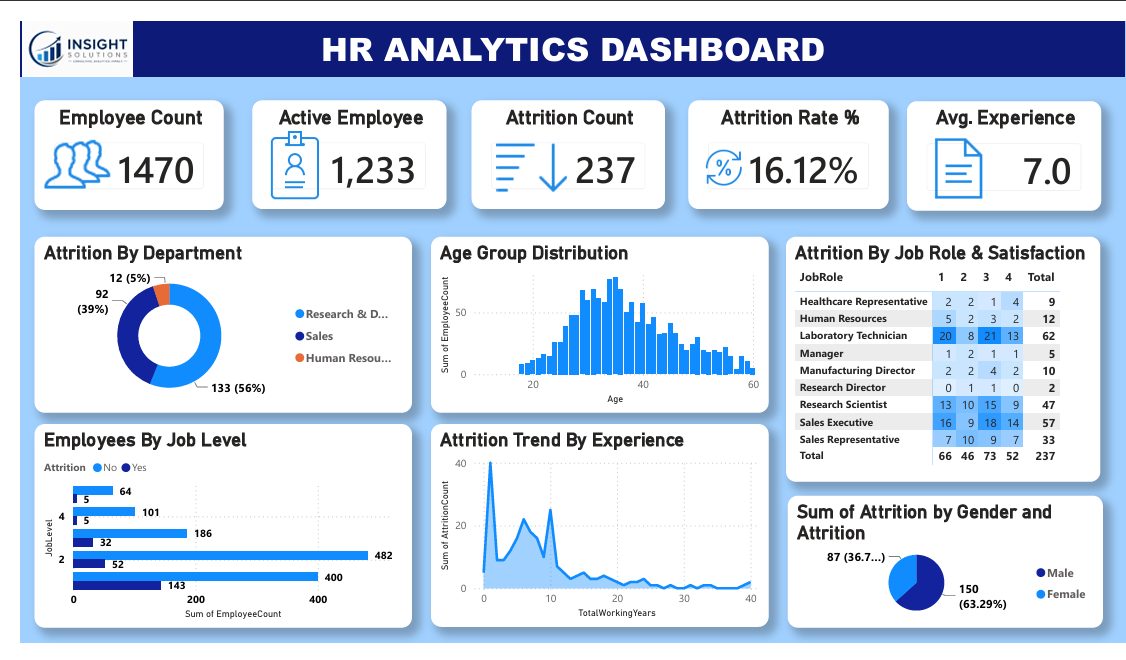

This screenshot's page, from the dashboard's own definition file:
{"tool":"powerbi","page":{"name":"Page 1","canvas":[1280,720],"ordinal":0},"visuals":[{"type":"textbox","box":[0,0,1279.4,64.3],"z":1},{"type":"image","box":[0,0,131,64.4],"z":2},{"type":"cardVisual","title":"Attrition Count","fields":{"Data":["Sum(WA_Fn-UseC_-HR-Employee-Attrition.AttritionCount)"]},"box":[521.6,90.7,224.9,126.6],"z":3},{"type":"cardVisual","title":"Attrition Rate %","fields":{"Data":["WA_Fn-UseC_-HR-Employee-Attrition.Attrition Rate %","WA_Fn-UseC_-HR-Employee-Attrition.Attrition Rate %"]},"box":[772.9,90.7,232.4,126.6],"z":4},{"type":"cardVisual","title":"Employee Count","fields":{"Data":["Sum(WA_Fn-UseC_-HR-Employee-Attrition.EmployeeCount)"]},"box":[15.5,91.1,219.9,126.6],"z":5},{"type":"cardVisual","title":"Avg. Experience","fields":{"Data":["Avg(WA_Fn-UseC_-HR-Employee-Attrition.YearsAtCompany)"]},"box":[1025.7,91.6,225.1,127.5],"z":6},{"type":"cardVisual","title":"Active Employee","fields":{"Data":["Sum(WA_Fn-UseC_-HR-Employee-Attrition.EmployeeCount)"]},"box":[268.3,90.7,224.9,126.6],"z":7},{"type":"image","box":[268.7,122.2,97.7,93.3],"z":9},{"type":"image","box":[24.4,115.5,82.2,95.5],"z":10},{"type":"image","box":[788.4,122.2,51.1,93.3],"z":12},{"type":"image","box":[1048.3,128.8,75.5,82.2],"z":13},{"type":"image","box":[550.8,122.2,82.2,93.3],"z":14},{"type":"donutChart","title":"Attrition By Department","fields":{"Y":["Sum(WA_Fn-UseC_-HR-Employee-Attrition.AttritionCount)"],"Category":["WA_Fn-UseC_-HR-Employee-Attrition.Department"]},"box":[15.5,248.7,437.5,204.3],"z":15},{"type":"clusteredBarChart","title":"Employees By Job Level","fields":{"Y":["Sum(WA_Fn-UseC_-HR-Employee-Attrition.EmployeeCount)"],"Category":["WA_Fn-UseC_-HR-Employee-Attrition.JobLevel"],"Series":["WA_Fn-UseC_-HR-Employee-Attrition.Attrition"]},"box":[15.5,466.4,437.5,235.4],"z":16},{"type":"pivotTable","title":"Attrition By Job Role & Satisfaction","fields":{"Rows":["WA_Fn-UseC_-HR-Employee-Attrition.JobRole"],"Values":["Sum(WA_Fn-UseC_-HR-Employee-Attrition.AttritionCount)"],"Columns":["WA_Fn-UseC_-HR-Employee-Attrition.JobSatisfaction"]},"box":[886.2,248.7,364.2,284.3],"z":17},{"type":"columnChart","title":"Age Group Distribution","fields":{"Category":["WA_Fn-UseC_-HR-Employee-Attrition.Age"],"Y":["Sum(WA_Fn-UseC_-HR-Employee-Attrition.EmployeeCount)"]},"box":[475.3,248.7,390.9,204.3],"z":18},{"type":"pieChart","title":"Sum of Attrition by Gender and Attrition","fields":{"Category":["WA_Fn-UseC_-HR-Employee-Attrition.Gender"],"Series":["WA_Fn-UseC_-HR-Employee-Attrition.AttritionCount"],"Y":["Sum(WA_Fn-UseC_-HR-Employee-Attrition.AttritionCount)"]},"box":[888.4,548.6,364.2,153.2],"z":19},{"type":"areaChart","title":"Attrition Trend By Experience","fields":{"Category":["WA_Fn-UseC_-HR-Employee-Attrition.TotalWorkingYears"],"Y":["Sum(WA_Fn-UseC_-HR-Employee-Attrition.AttritionCount)"]},"box":[475,466,391,235],"z":20}]}

Visuals, with their boxes in screenshot pixels (x1, y1, x2, y2):
textbox: [15, 18, 1125, 73]
image: [15, 18, 128, 73]
"Attrition Count" cardVisual: [467, 96, 662, 206]
"Attrition Rate %" cardVisual: [685, 96, 887, 206]
"Employee Count" cardVisual: [28, 97, 219, 206]
"Avg. Experience" cardVisual: [904, 97, 1100, 208]
"Active Employee" cardVisual: [247, 96, 443, 206]
image: [248, 124, 333, 205]
image: [36, 118, 107, 201]
image: [699, 124, 743, 205]
image: [924, 129, 990, 201]
image: [492, 124, 564, 205]
"Attrition By Department" donutChart: [28, 233, 408, 411]
"Employees By Job Level" clusteredBarChart: [28, 422, 408, 626]
"Attrition By Job Role & Satisfaction" pivotTable: [783, 233, 1099, 480]
"Age Group Distribution" columnChart: [427, 233, 766, 411]
"Sum of Attrition by Gender and Attrition" pieChart: [785, 494, 1101, 626]
"Attrition Trend By Experience" areaChart: [427, 422, 766, 626]
